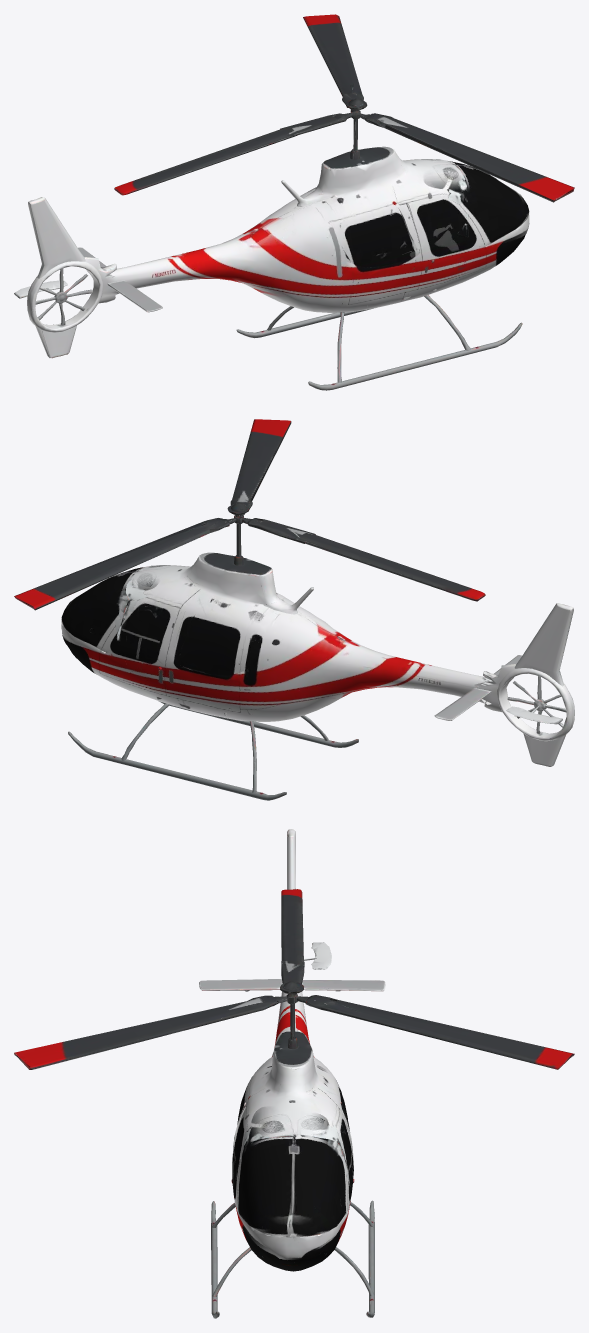
File: helicopter.glb
The picture shows the model from 3 angles, top to bottom: view 1: azimuth 30°, elevation 25°; view 2: azimuth 150°, elevation 25°; view 3: azimuth 270°, elevation 25°; orthographic projection. The views are drawn at different scales.
Parts seen in each view (by area): view 1: body, rotor-main; view 2: body, rotor-main; view 3: body, rotor-main.
Boxes of the visible parts, left/top/right/bottom form: body: left=14, top=146, right=529, bottom=390; rotor-main: left=114, top=14, right=574, bottom=202; body: left=61, top=552, right=574, bottom=800; rotor-main: left=14, top=419, right=485, bottom=610; body: left=199, top=829, right=385, bottom=1318; rotor-main: left=14, top=889, right=574, bottom=1069.
Size of the model in its own units: 7.6 by 3.67 by 6.69.
Materials: 1 (1 with a texture image).
